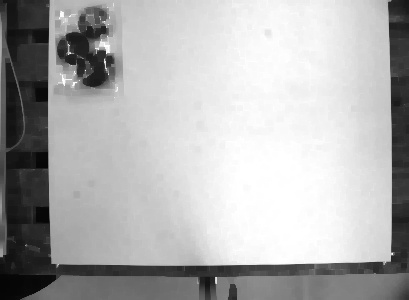t1: (50, 1, 120, 104)
